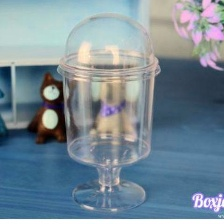glass: (50, 7, 164, 215)
